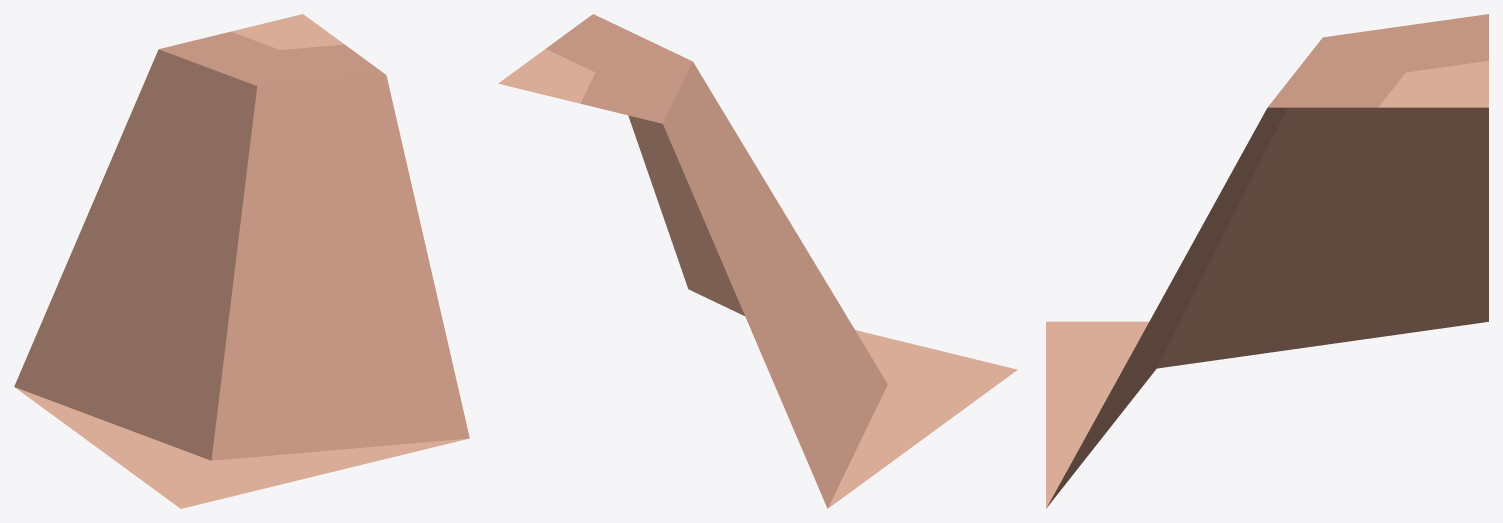
Rendered from terrain_sideCorner.fbx.
3 renders of one model, left to right at view 1: azimuth 30°, elevation 25°; view 2: azimuth 150°, elevation 25°; view 3: azimuth 270°, elevation 25°, orthographic. The views are drawn at different scales.
Parts seen in each view (by area): view 1: terrain_sideCorner; view 2: terrain_sideCorner; view 3: terrain_sideCorner.
Part boxes in pixels (bbox=[...]): terrain_sideCorner: bbox=[14, 14, 469, 508]; terrain_sideCorner: bbox=[498, 14, 1017, 508]; terrain_sideCorner: bbox=[1046, 14, 1488, 508].
Size of the model in its own units: 100 by 100 by 100.
